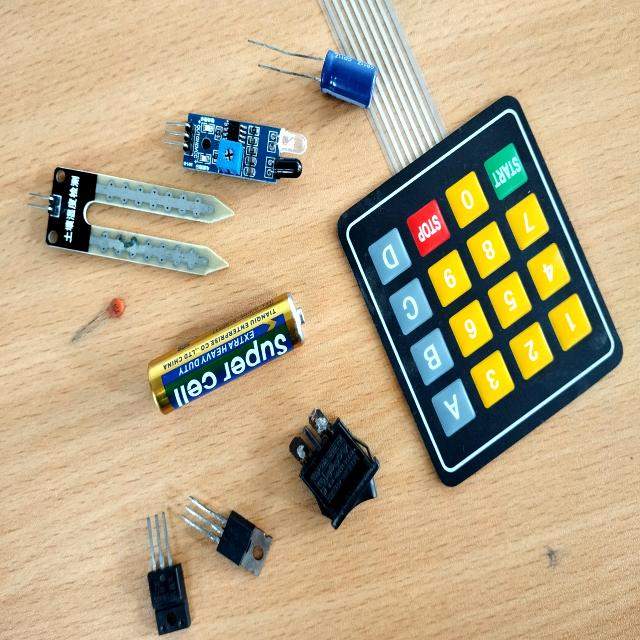capacitor: (321, 55, 374, 103), (107, 298, 126, 318)
